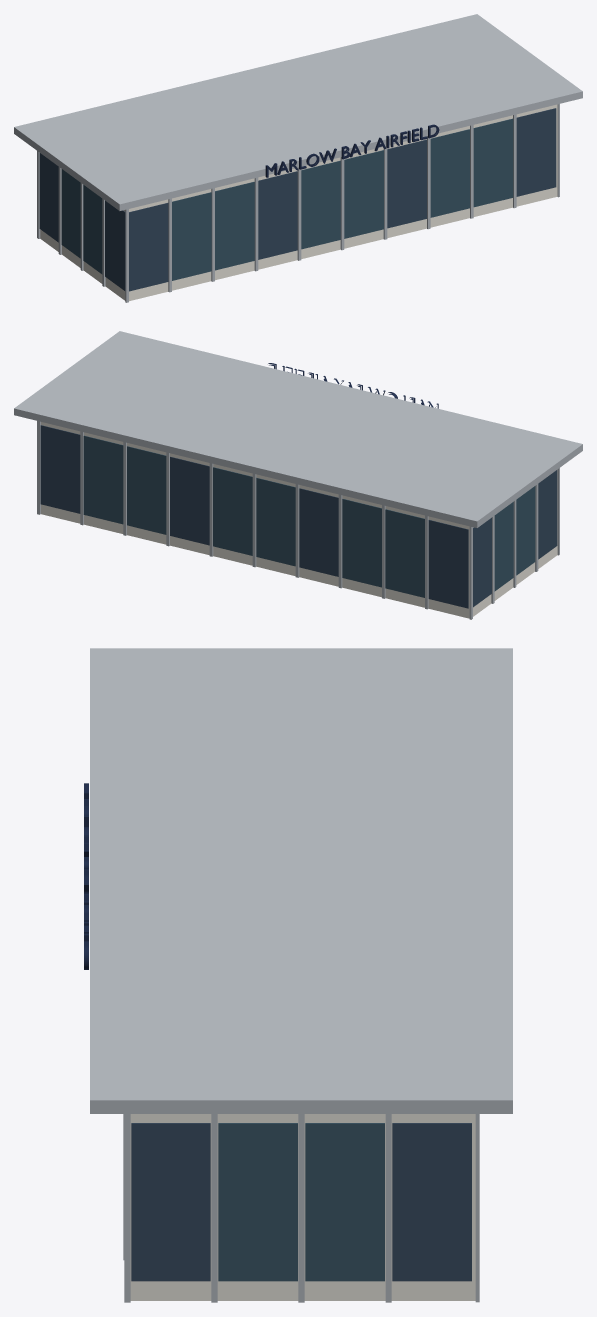
The model's file is terminal.glb.
The picture shows the model from 3 angles, top to bottom: view 1: azimuth 30°, elevation 25°; view 2: azimuth 150°, elevation 25°; view 3: azimuth 270°, elevation 25°; orthographic projection. The views are drawn at different scales.
Visible parts, largest first — view 1: terminal; view 2: terminal; view 3: terminal.
Part boxes in pixels (x1=…): terminal: x1=14, y1=14, x2=582, y2=302; terminal: x1=14, y1=331, x2=582, y2=619; terminal: x1=84, y1=648, x2=512, y2=1302.
Size of what is drawn, in the model's own units: 43 by 9.94 by 17.25.
